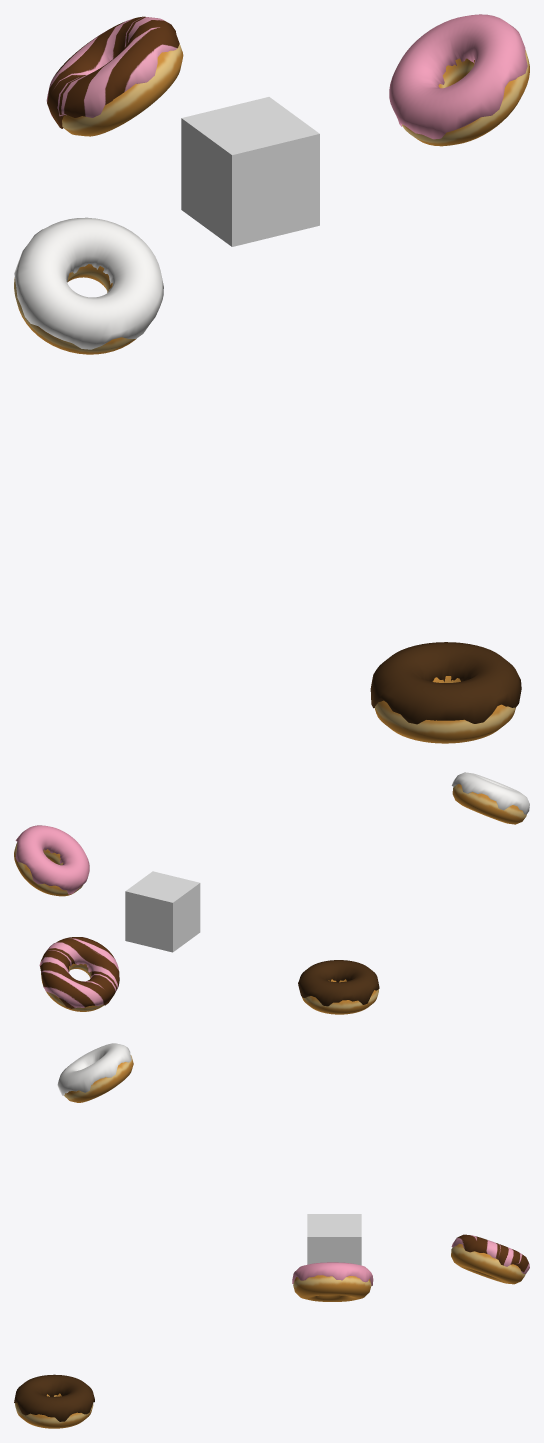
Rendered from donutblend.glb.
3 views of the same model, one above another, from view 1: azimuth 30°, elevation 25°; view 2: azimuth 150°, elevation 25°; view 3: azimuth 270°, elevation 25° (orthographic). The views are drawn at different scales.
Parts seen in each view (by area): view 1: Cube, Torus.001, Torus.004, chocodonut, Torus.005; view 2: Cube, Torus.005, Torus.004, chocodonut, Torus.001; view 3: chocodonut, Torus.001, Torus.004, Cube, Torus.005.
Part boxes in pixels (x1,y1,x2,y2): Cube: (181, 97, 319, 246); Torus.001: (14, 217, 163, 354); Torus.004: (389, 14, 529, 146); chocodonut: (370, 642, 521, 743); Torus.005: (46, 16, 183, 136); Cube: (125, 871, 200, 952); Torus.005: (39, 937, 119, 1011); Torus.004: (14, 825, 89, 896); chocodonut: (298, 960, 379, 1014); Torus.001: (451, 772, 529, 824); chocodonut: (14, 1374, 94, 1428); Torus.001: (57, 1043, 133, 1102); Torus.004: (292, 1262, 373, 1301); Cube: (307, 1214, 361, 1265); Torus.005: (451, 1234, 529, 1284).
Size of the model in its own units: 16.3 by 11.61 by 18.94.
Materials: 5 (4 with a texture image).
